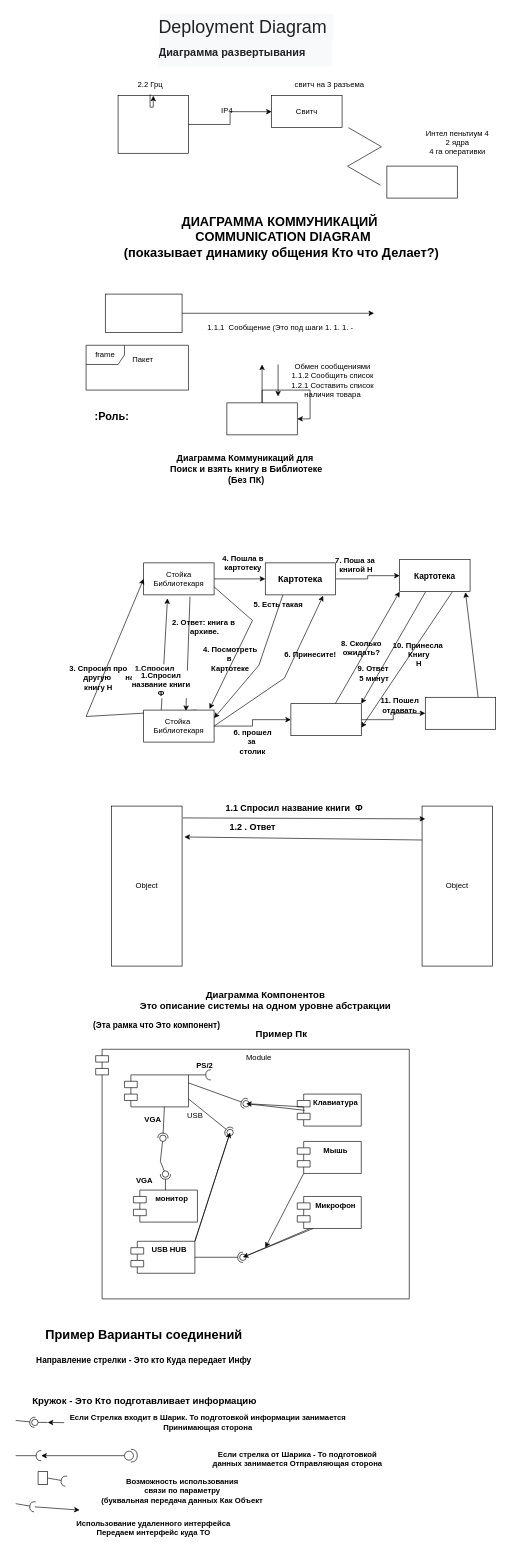
Image size: 507x1551. Some labels were removed from this diagram. The shapes that lost their labels are listed below. From the top down, each one's centre as x and y in pixels, then its label:
At (152,124): "Сервер".
At (421,181): "ПК".
At (143,312): "Класс : Роль : Имя".
At (261,418): "::Склад".
At (325,719): "Стол Для чтения".
At (460,713): "Прочитал".
At (156,1090): "Системный Блок".
